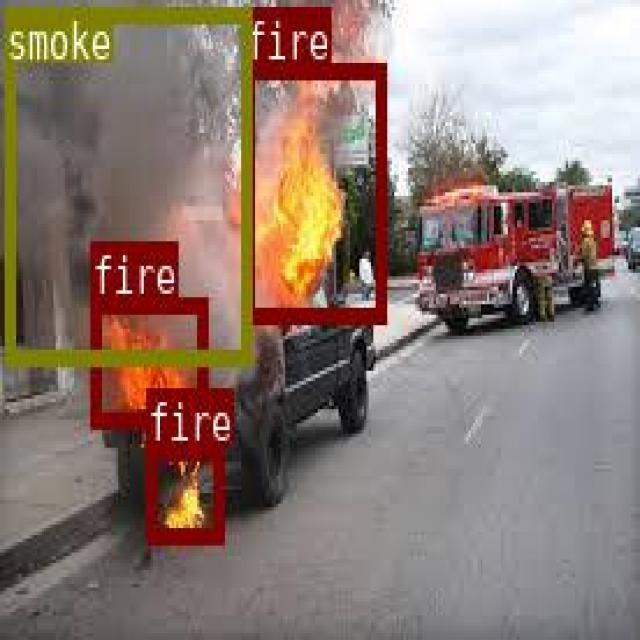fire: (242, 61, 383, 320), (89, 295, 205, 425), (145, 441, 221, 542)
smoke: (4, 4, 250, 363)
